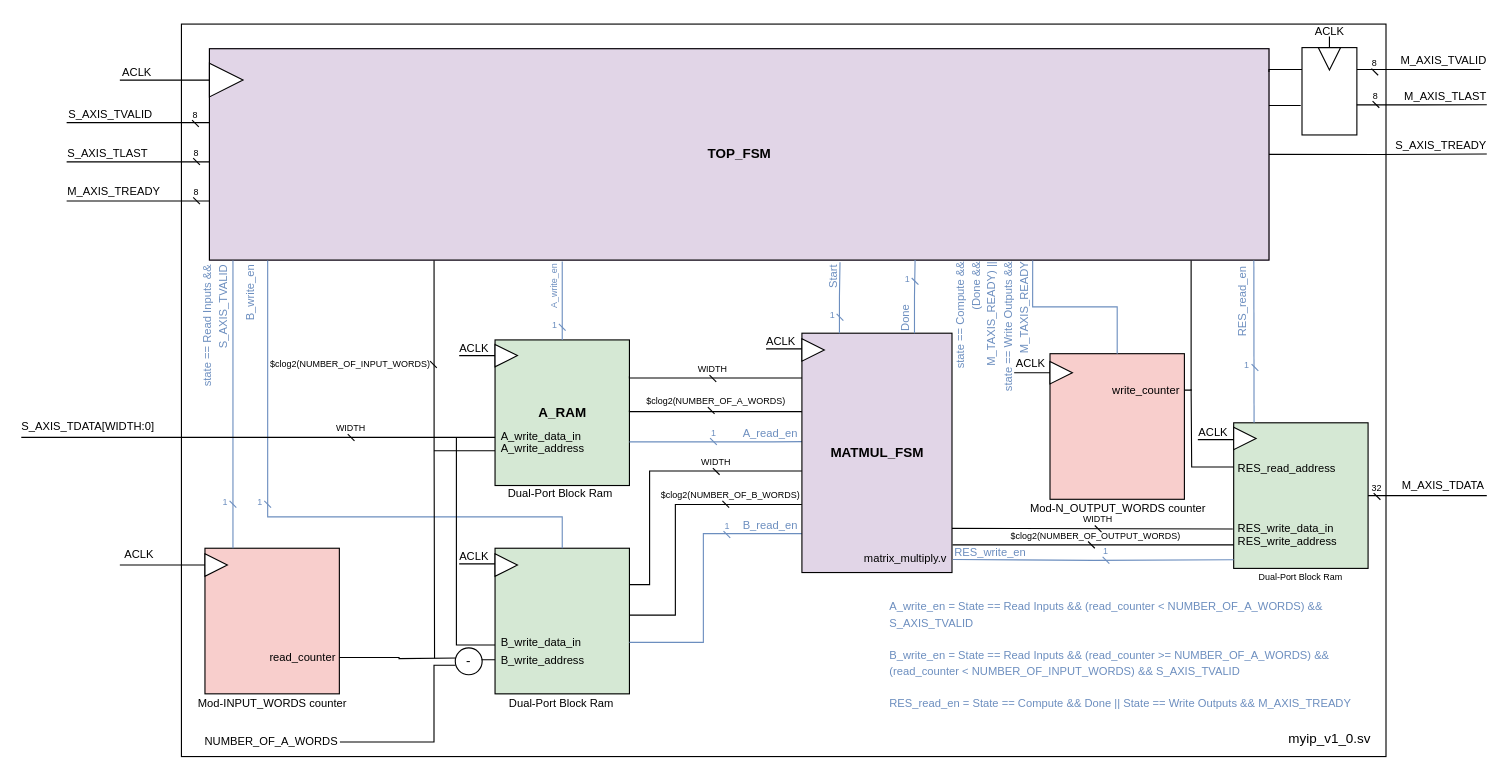
The diagram is 1508 pixels wide and 776 high, and some of its shapes have lost their labels. The shapes that lost their labels are listed below. From the top down, each one's box as (x1, y1, x2, y2) in pixels, then its label:
(1233, 422, 1368, 568): RES_RAM
(494, 547, 629, 694): B_RAM
